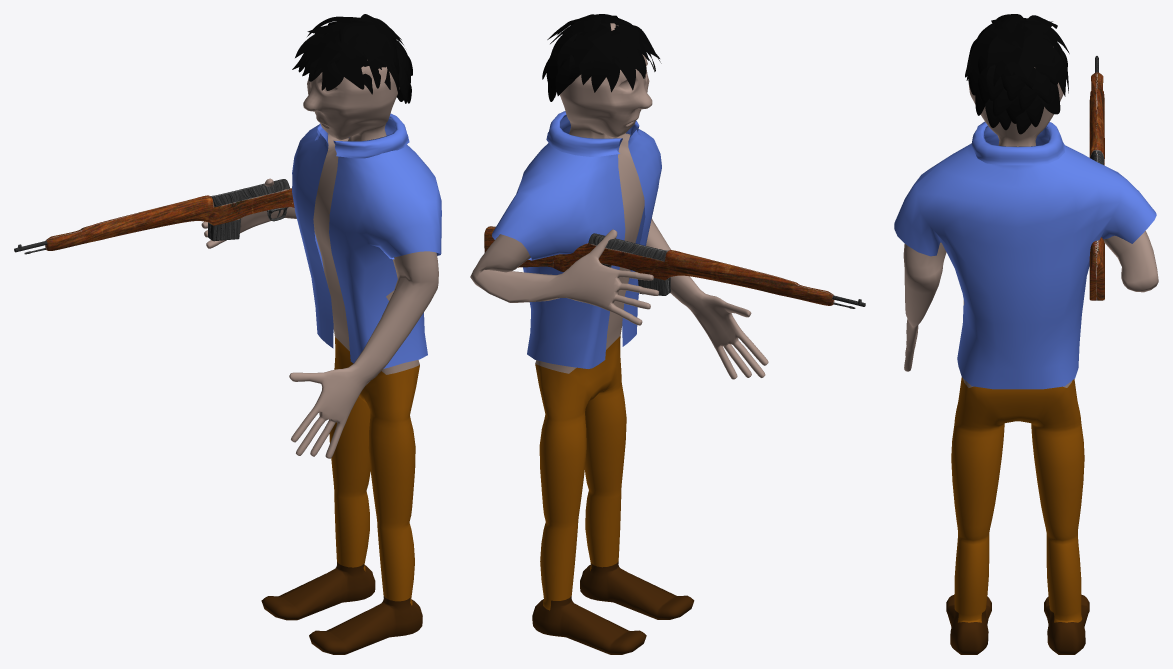
The model's file is player.fbx.
3 views of the same model, side by side, from view 1: azimuth 30°, elevation 25°; view 2: azimuth 150°, elevation 25°; view 3: azimuth 270°, elevation 25° (orthographic). The views are drawn at different scales.
Parts seen in each view (by area): view 1: pCube3; view 2: pCube3; view 3: pCube3.
Part boxes in pixels (x1=…): pCube3: x1=14, y1=14, x2=441, y2=654; pCube3: x1=470, y1=14, x2=865, y2=654; pCube3: x1=894, y1=14, x2=1158, y2=654.
Size of the model in its own units: 4.44 by 6.78 by 2.62.
6 materials, 1 textured.
